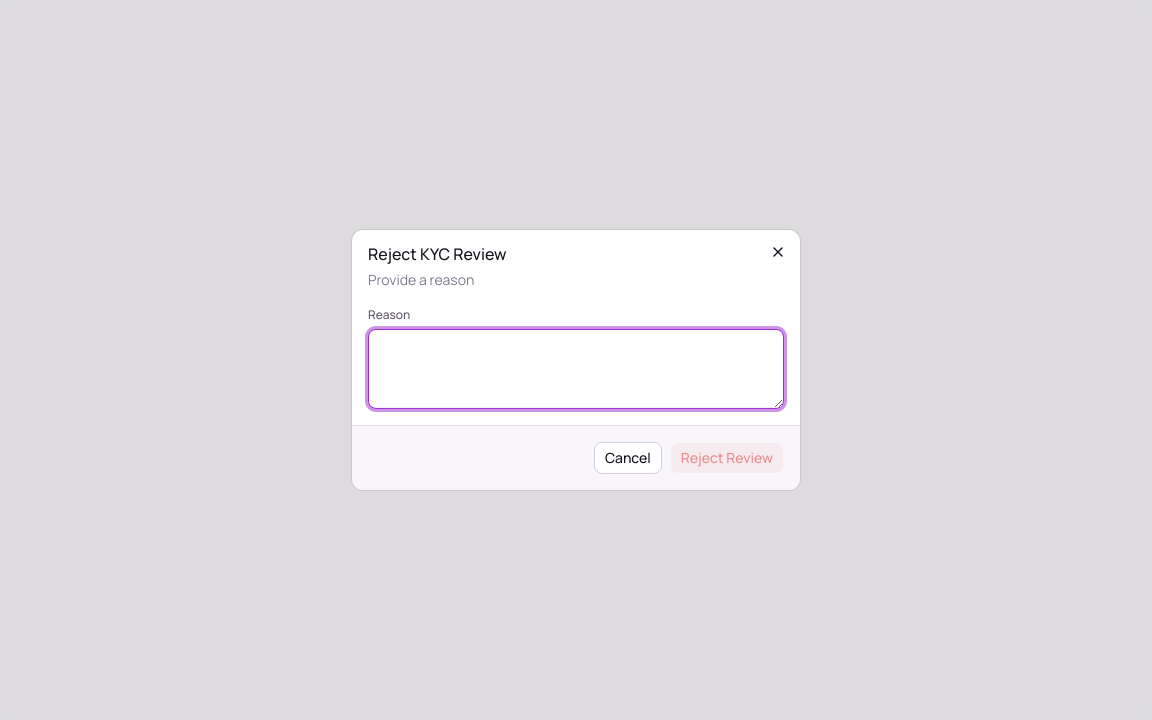
KycReviewActions › requires a canonical ten-character decision reason
Type "short" into the text box labelled "Reason".
click(576, 369); type("short")  # box [368,329,784,409]
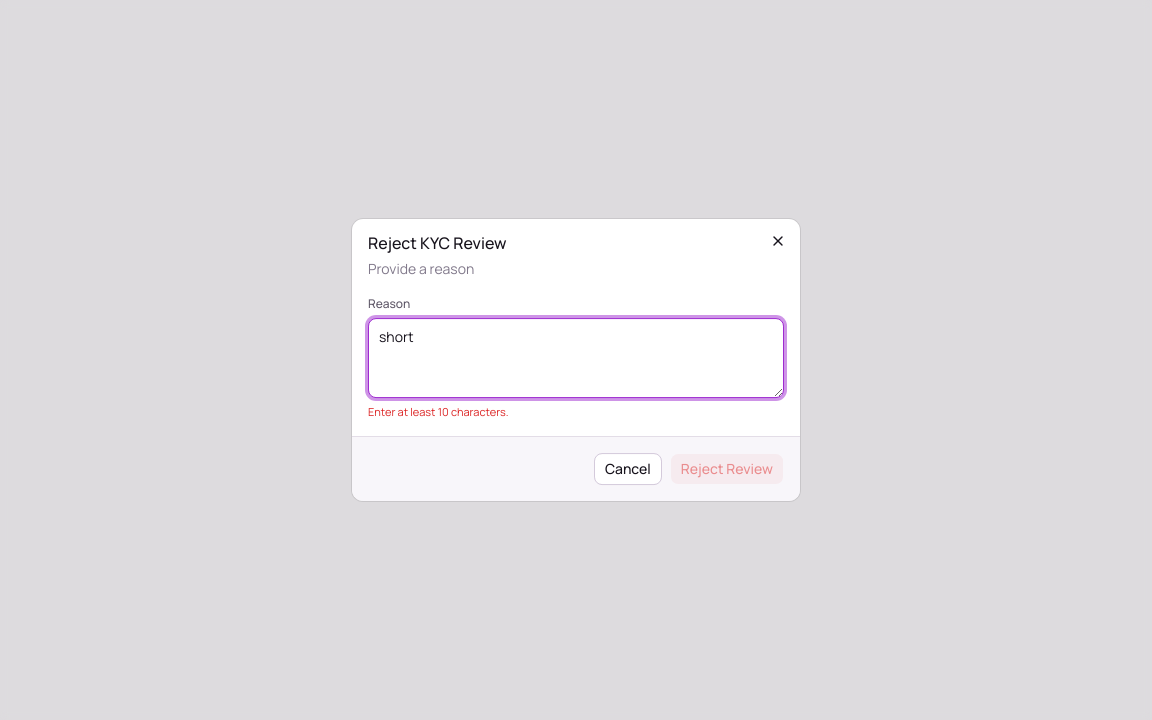
Check: the button "Reject Review" is disabled, box [670,453,784,485]
Replace the text in the text box labelled "Reason" with "Detailed reason" at (576, 358), box [368,318,784,398]
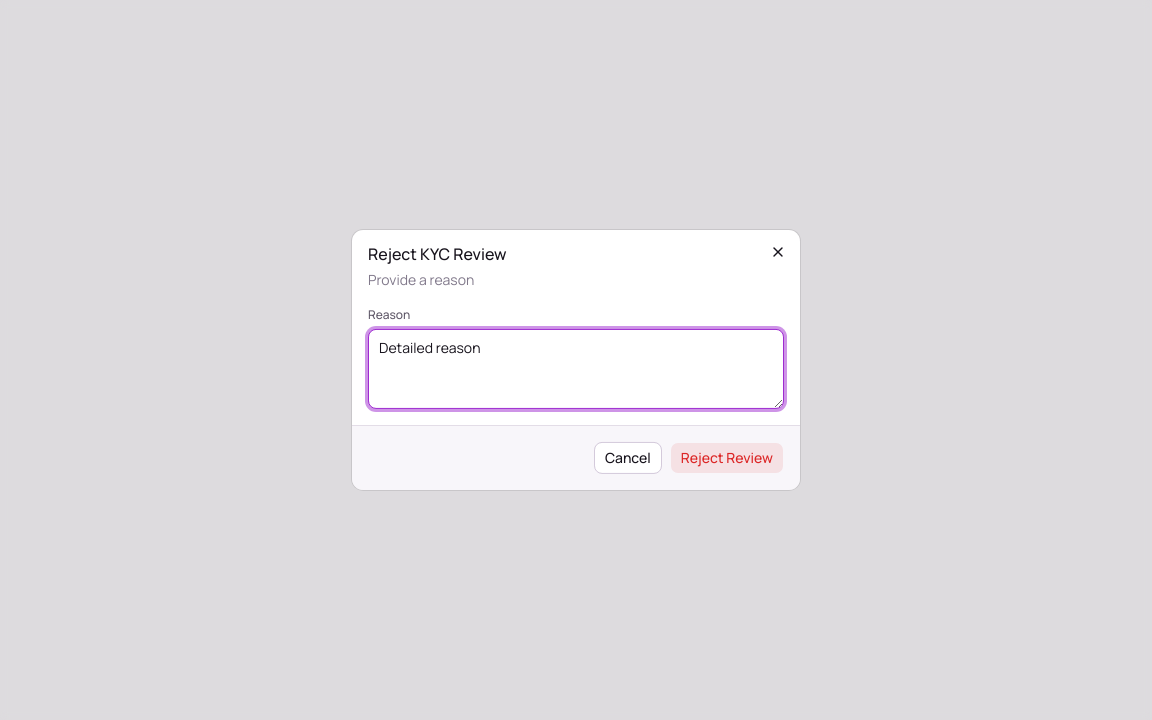
Check: the button "Reject Review" is enabled, box [670,442,784,474]
